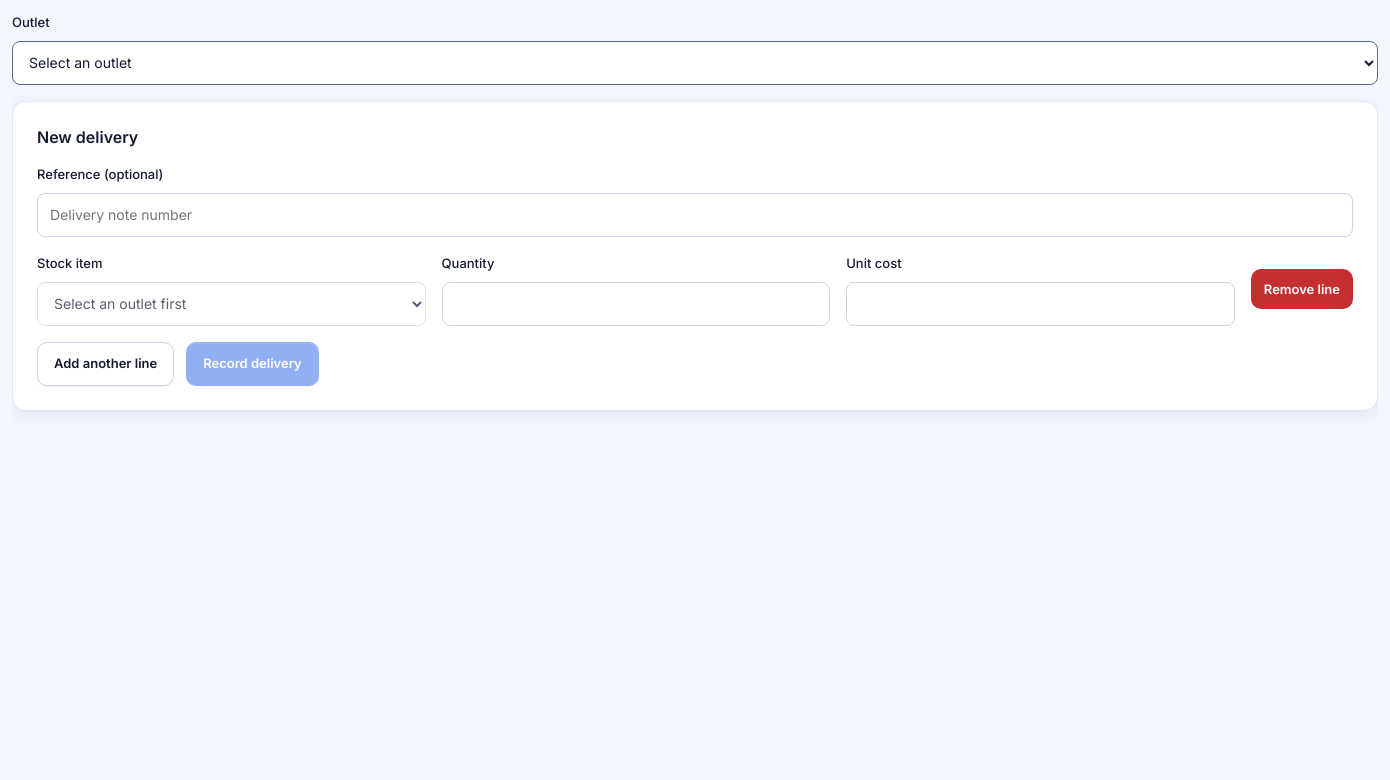
Test: <StockGoodsReceivedTab> › shows a real backend error when the delivery is rejected
Select "Main Bar" in the dropdown labelled "Outlet" at (695, 63), box [12, 41, 1378, 85]
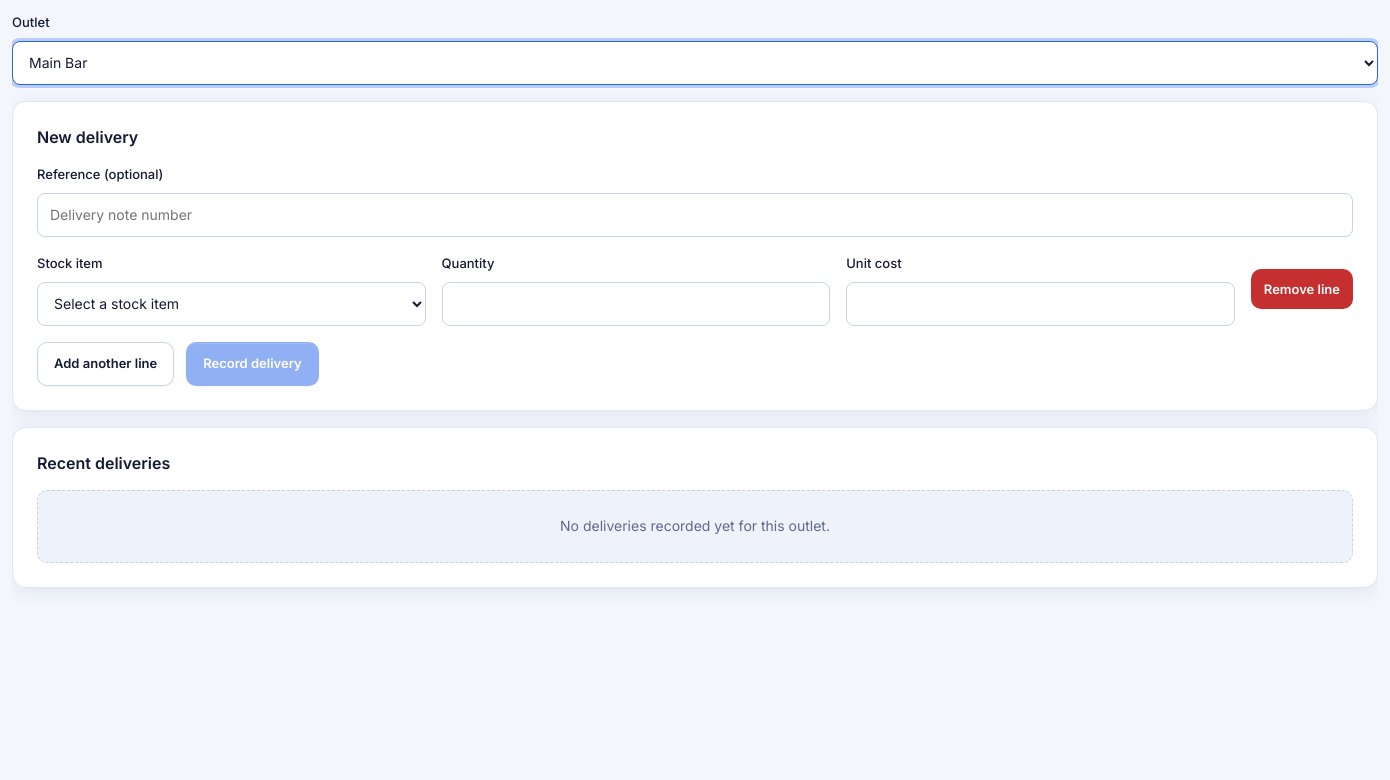
expect the heading "New delivery" is shown: met, box [37, 127, 138, 147]
Select "Vodka (ml)" in the dropdown labelled "Stock item" at (231, 304), box [37, 282, 426, 326]
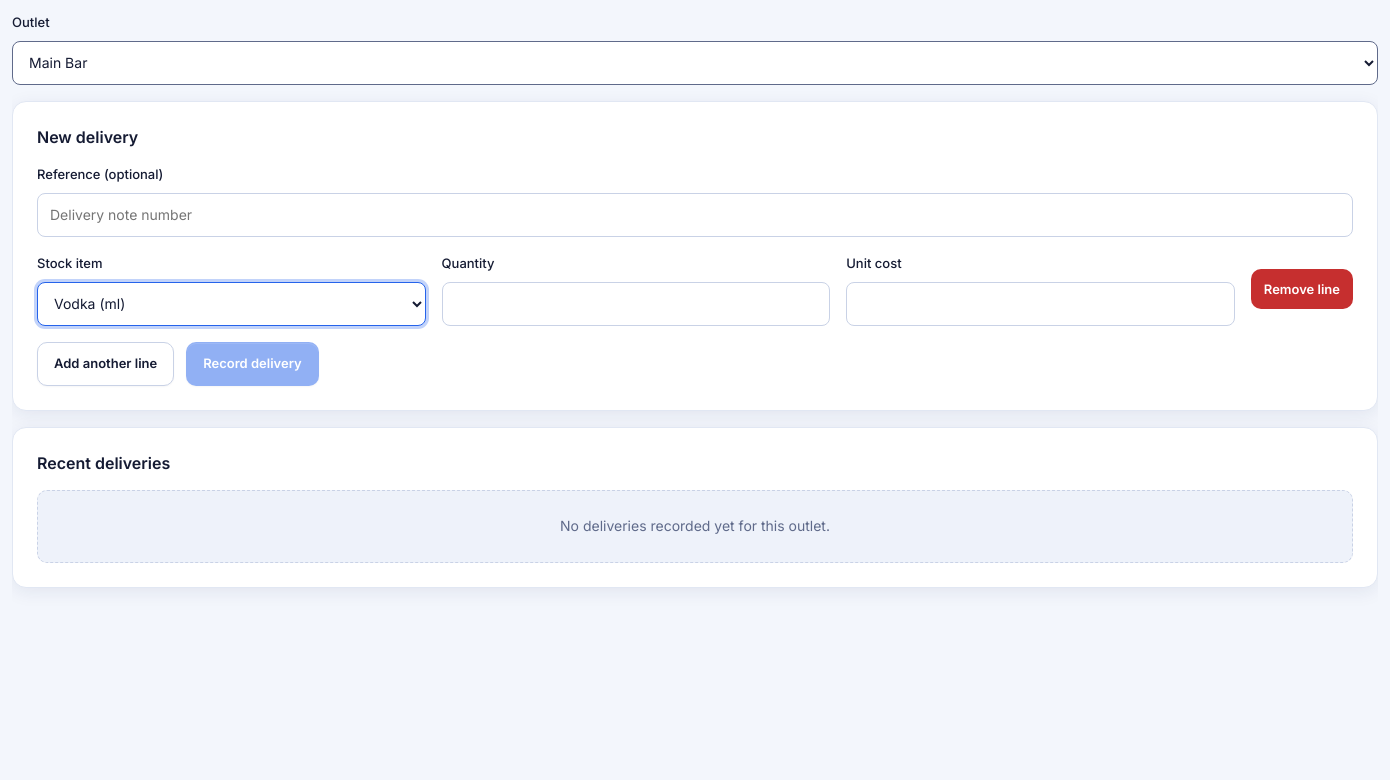
Type "10" into the number field labelled "Quantity" at (636, 304), box [442, 282, 830, 326]
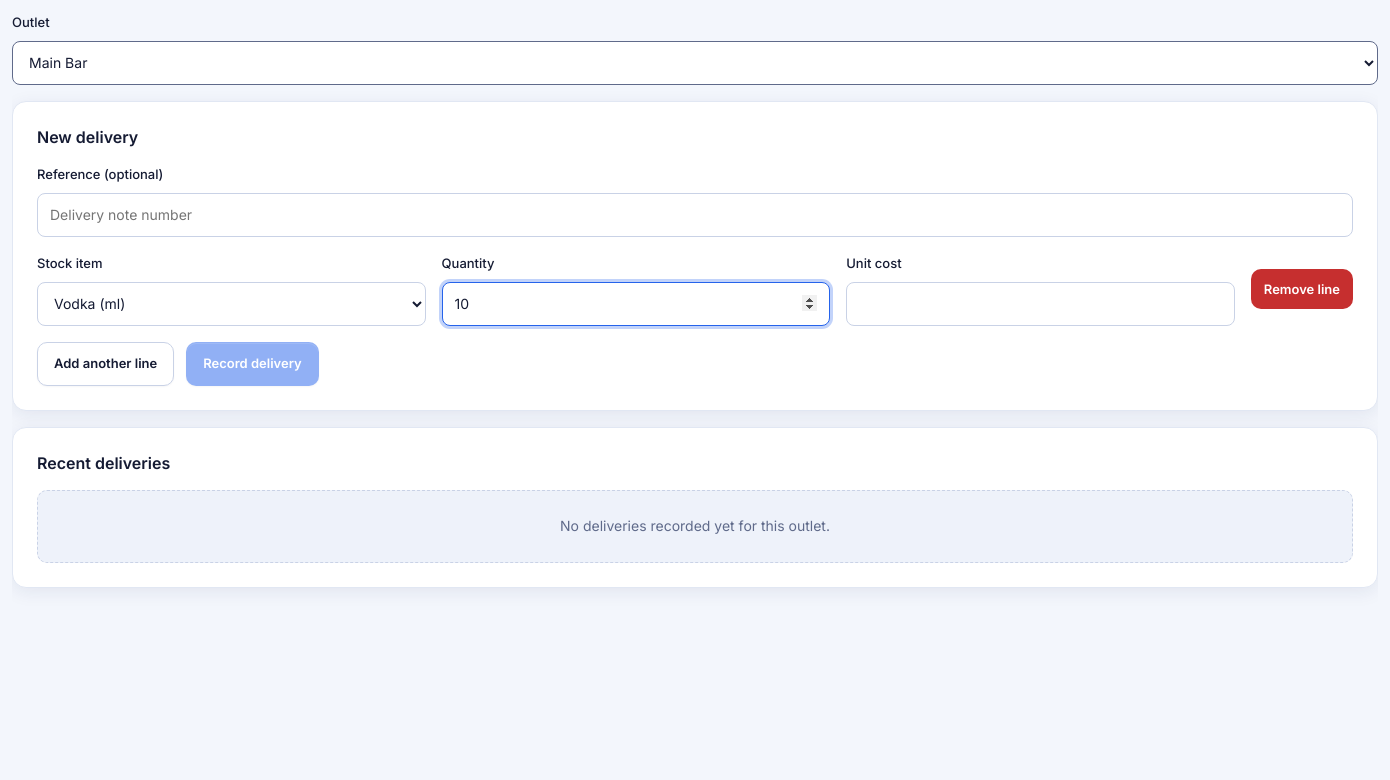
Type "6.50" into the number field labelled "Unit cost" at (1040, 304), box [846, 282, 1235, 326]
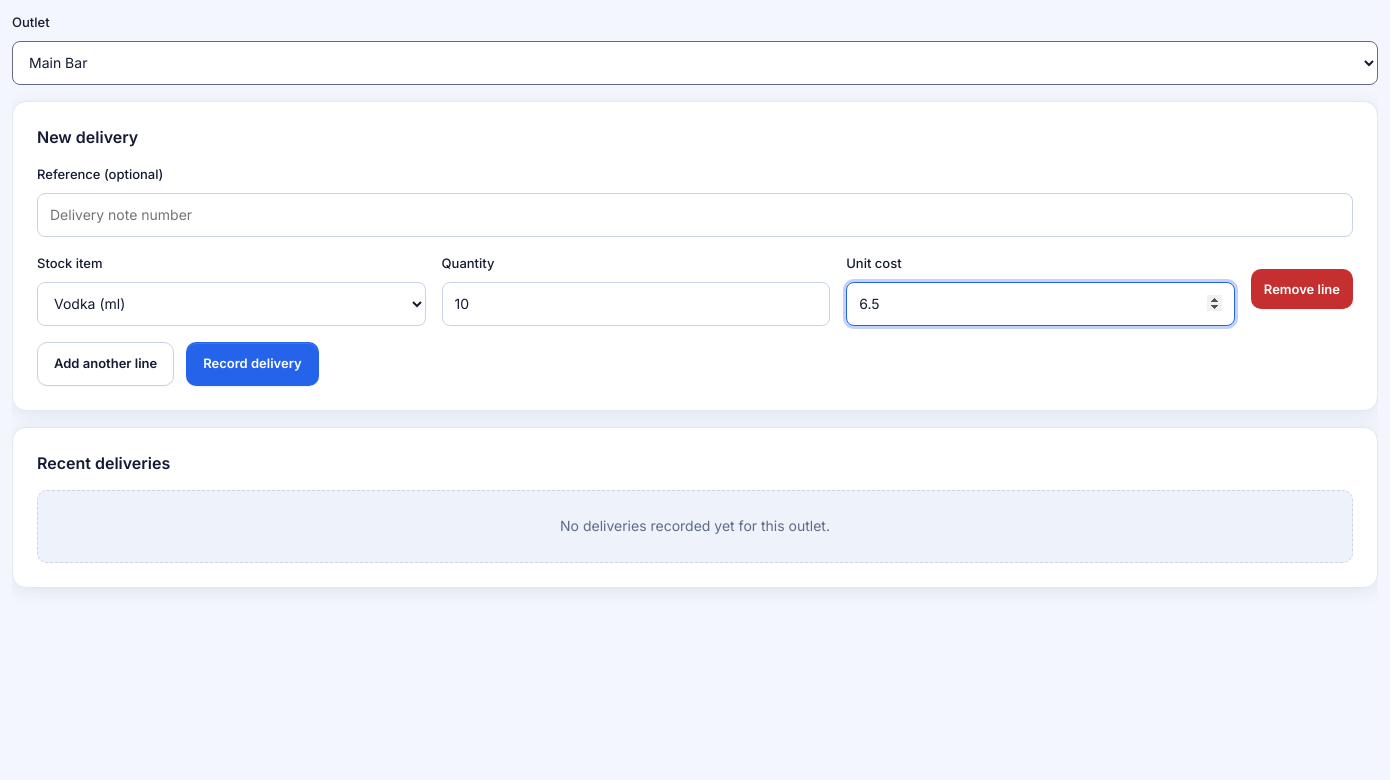
Click the button "Record delivery" at (253, 364), box [186, 342, 319, 386]
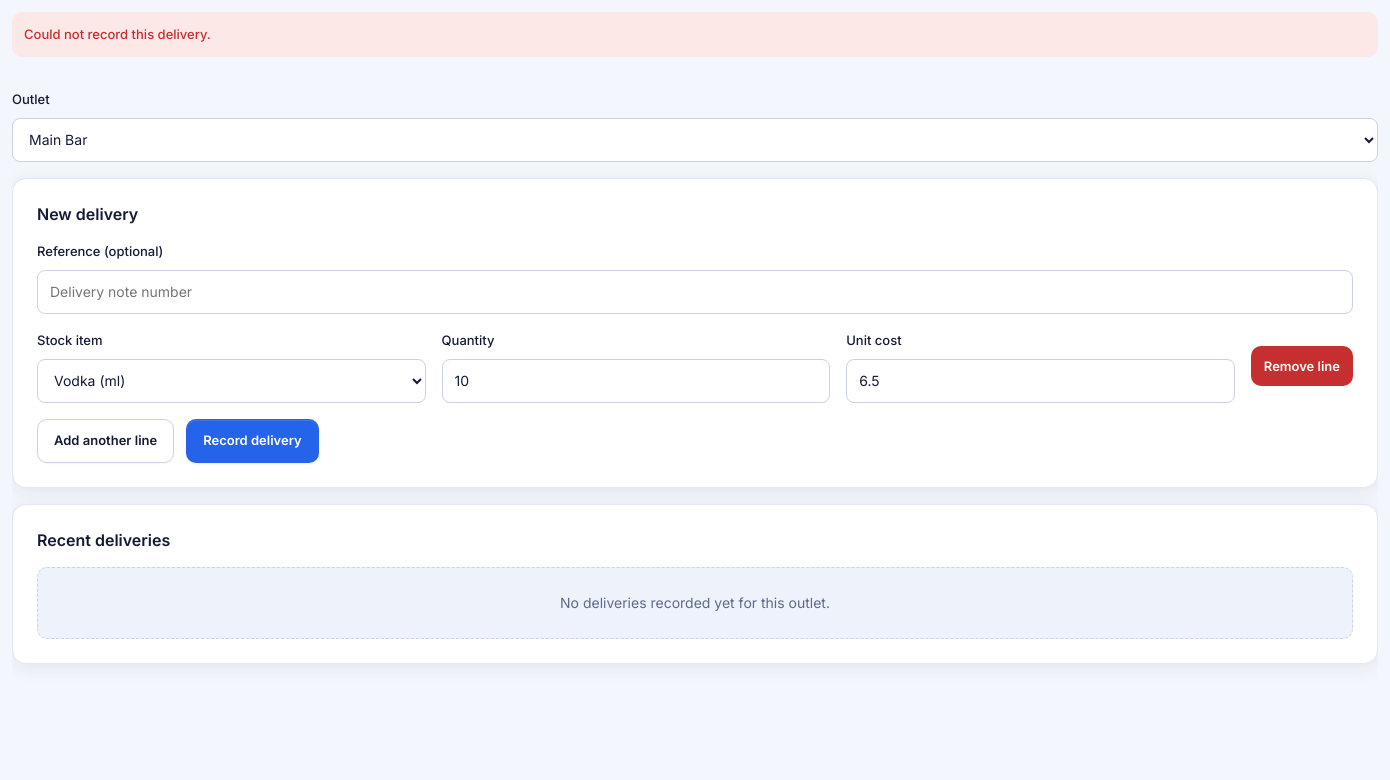
expect the text "Could not record this delivery." is shown: met, box [12, 12, 1378, 57]
